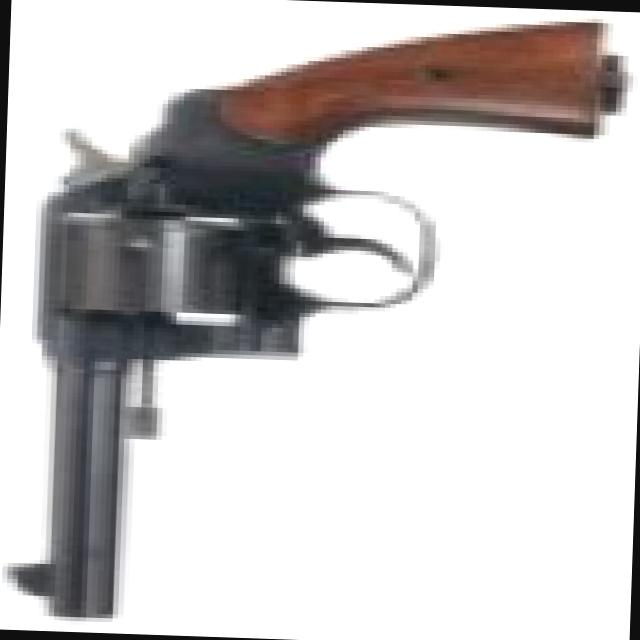handgun: (0, 9, 609, 638)
